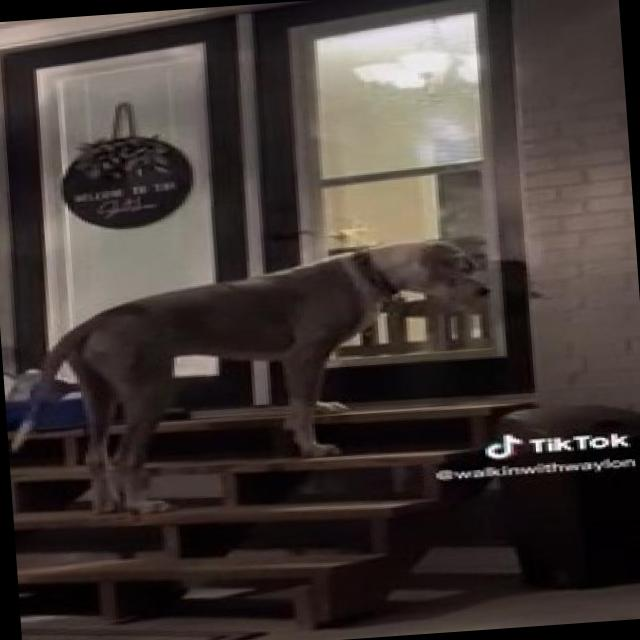dog: (6, 214, 506, 519)
